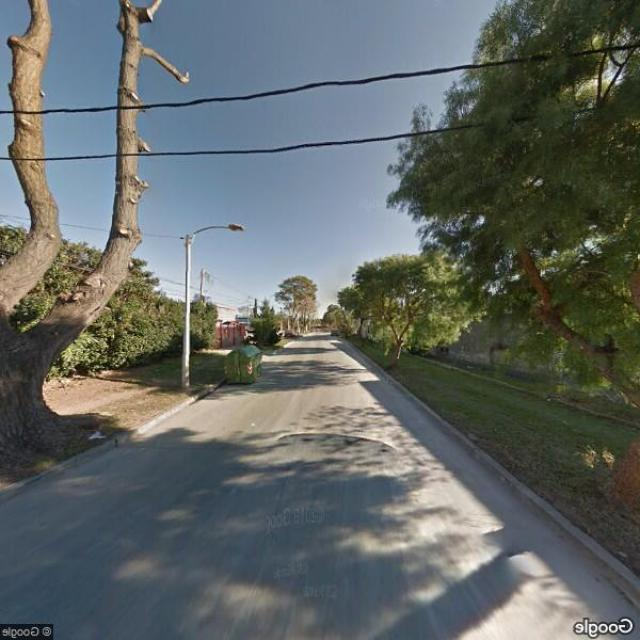garbage container: (220, 338, 266, 396)
